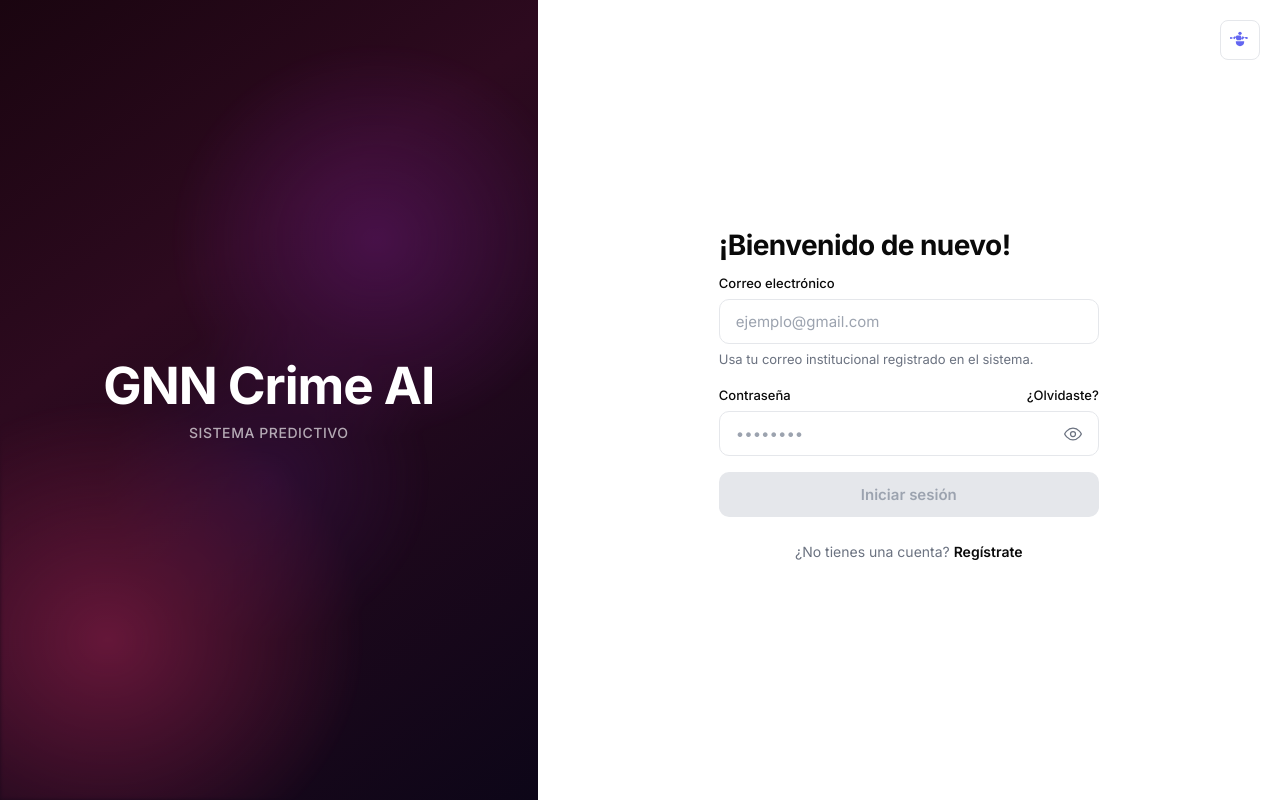
Scenario: LoginPage › habilita el botón con email y contraseña
Type "admin@pnp.gob.pe" into the field with test id "login-email-input" at {"x": 909, "y": 322}, box [719,299,1099,344]
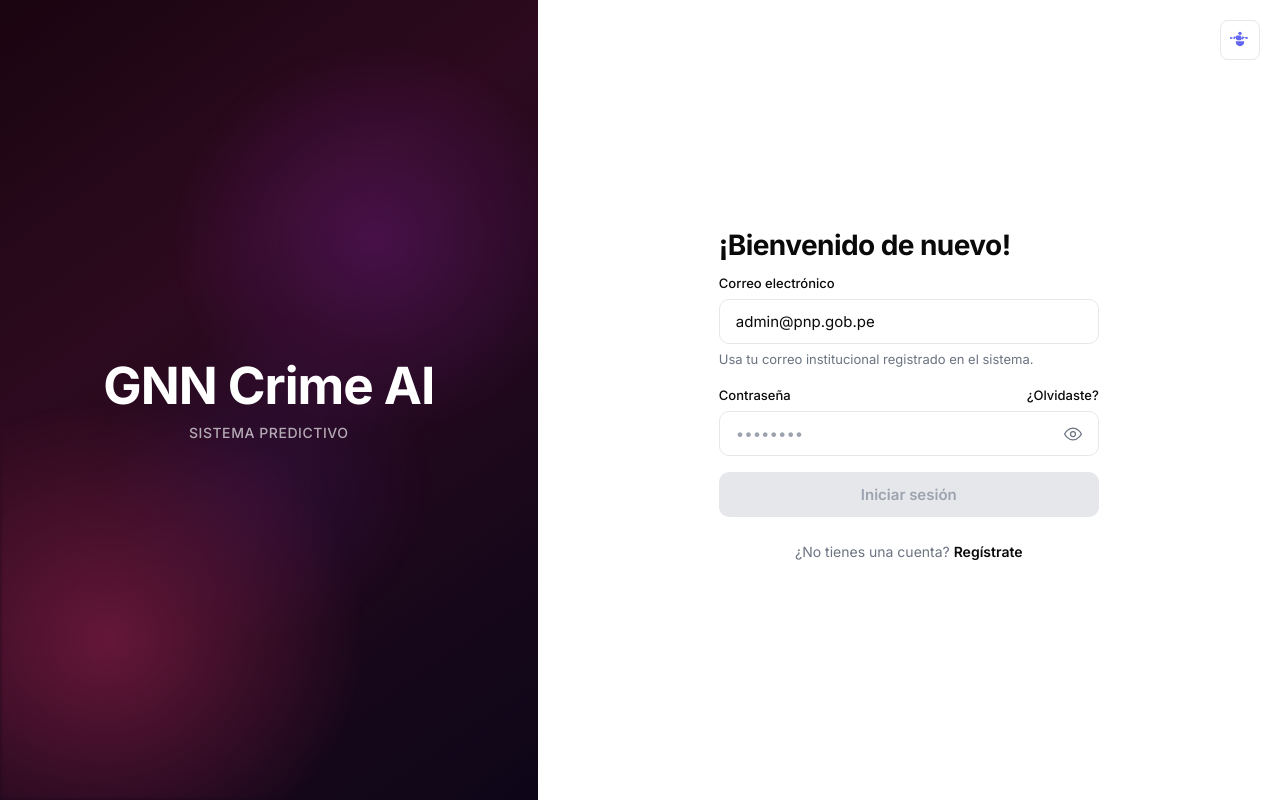
Type "clave123" into the password field with test id "login-password-input" at {"x": 909, "y": 434}, box [719,411,1099,456]
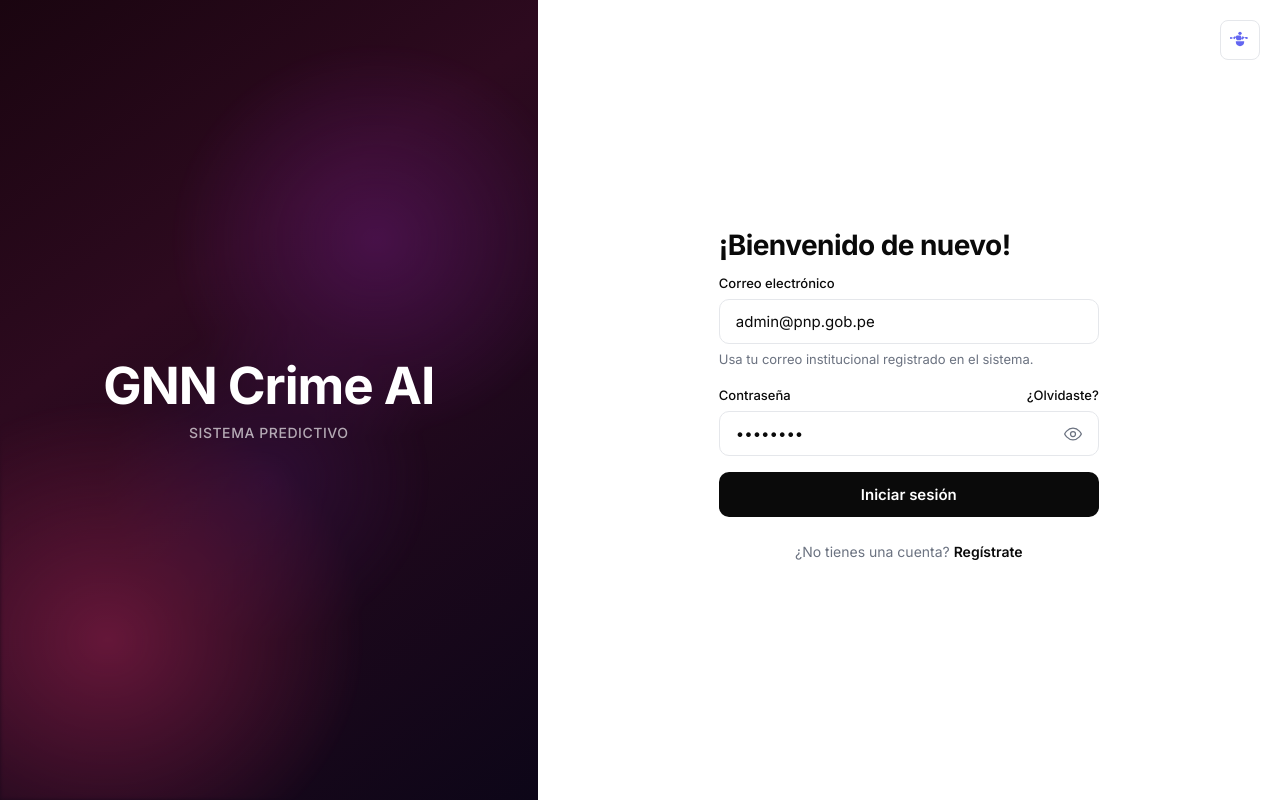
Expected: the button with test id "login-submit-button" is enabled, [719,472,1099,517]
